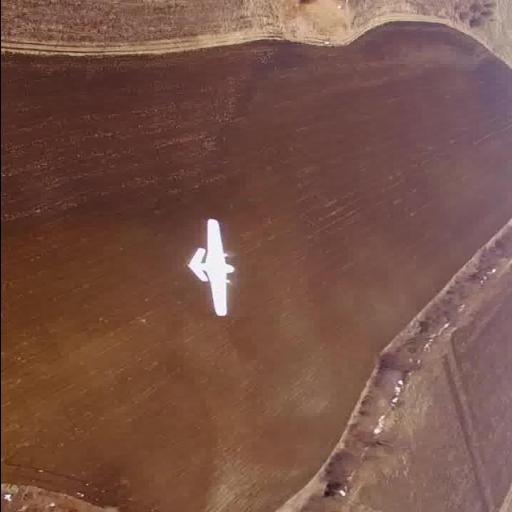uav: (178, 216, 246, 321)
